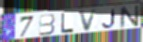7: (18, 15, 36, 38)
B: (38, 13, 56, 36)
J: (101, 8, 116, 29)
L: (60, 12, 75, 34)
N: (119, 4, 141, 30)
V: (78, 8, 99, 33)
